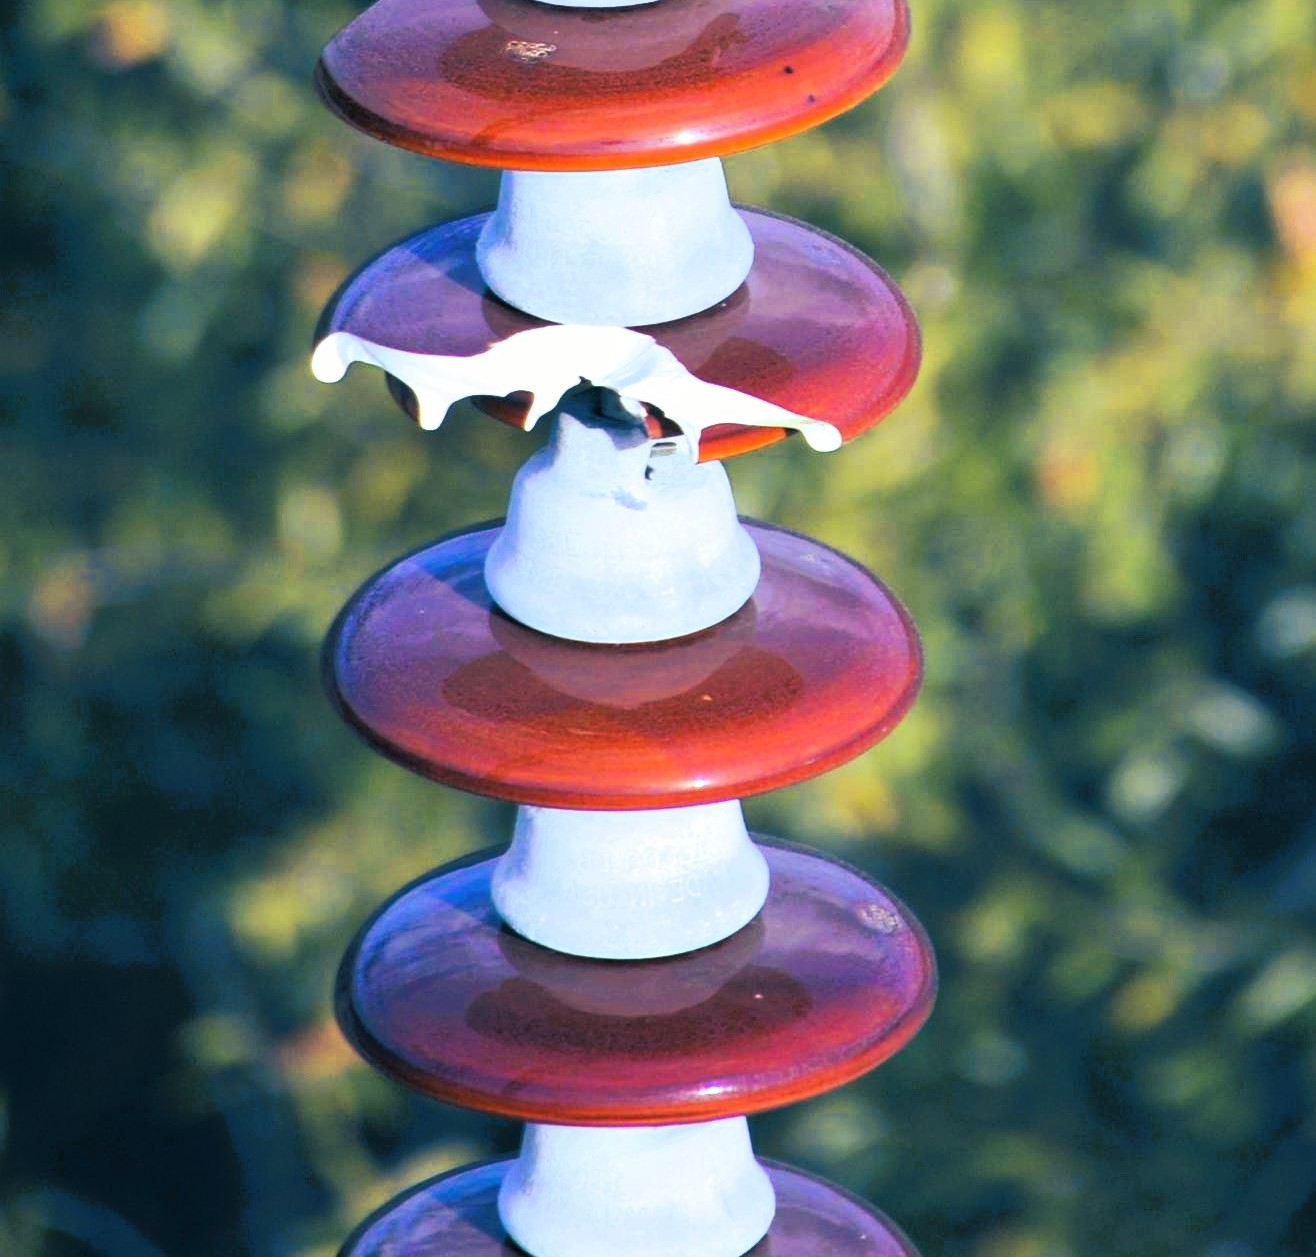insulator breakage: (286, 181, 951, 473)
